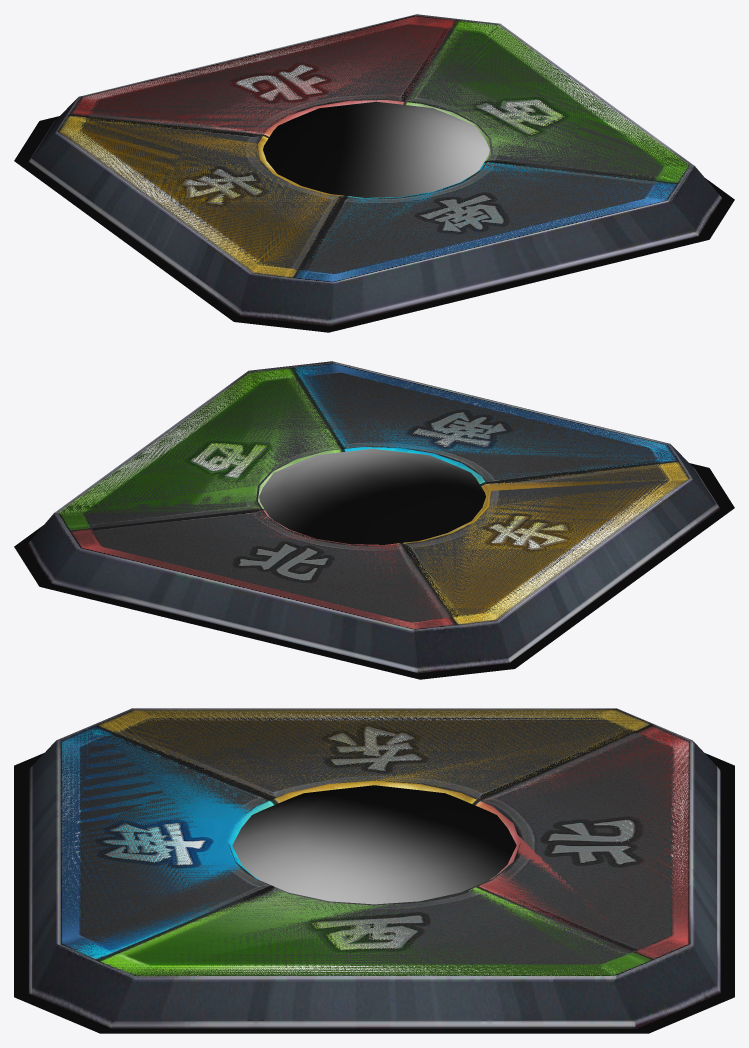
Rendered from DiceMachineModel.FBX.
3 renders of one model, top to bottom at view 1: azimuth 30°, elevation 25°; view 2: azimuth 150°, elevation 25°; view 3: azimuth 270°, elevation 25°, orthographic. The views are drawn at different scales.
Parts seen in each view (by area): view 1: QiDongQiSouth, QiDongQiEast, QiDongQiNorth, QiDongQiWest, QiDongQiNorthLight, QiDongQiWestLight, QiDongQiEastLight, QiDongQiGanZi, QiDongQiSouthLight, QiDongQiShadow; view 2: QiDongQiNorth, QiDongQiEast, QiDongQiSouth, QiDongQiWest, QiDongQiWestLight, QiDongQiEastLight, QiDongQiGanZi, QiDongQiNorthLight, QiDongQiSouthLight, QiDongQiShadow; view 3: QiDongQiWestLight, QiDongQiNorth, QiDongQiEast, QiDongQiSouth, QiDongQiWest, QiDongQiSouthLight, QiDongQiGanZi, QiDongQiEastLight, QiDongQiNorthLight, QiDongQiShadow.
Boxes of the visible parts, bbox=[...] form: QiDongQiSouth: bbox=[285, 162, 695, 326]; QiDongQiEast: bbox=[28, 114, 344, 320]; QiDongQiNorth: bbox=[42, 14, 456, 140]; QiDongQiWest: bbox=[404, 19, 692, 183]; QiDongQiNorthLight: bbox=[70, 14, 458, 137]; QiDongQiWestLight: bbox=[405, 19, 722, 216]; QiDongQiEastLight: bbox=[59, 114, 345, 277]; QiDongQiGanZi: bbox=[263, 101, 489, 197]; QiDongQiSouthLight: bbox=[296, 161, 709, 325]; QiDongQiShadow: bbox=[14, 116, 734, 332]; QiDongQiNorth: bbox=[53, 509, 463, 673]; QiDongQiEast: bbox=[404, 461, 720, 667]; QiDongQiSouth: bbox=[292, 361, 706, 487]; QiDongQiWest: bbox=[57, 366, 344, 530]; QiDongQiWestLight: bbox=[26, 366, 343, 563]; QiDongQiEastLight: bbox=[403, 461, 688, 625]; QiDongQiGanZi: bbox=[259, 448, 485, 544]; QiDongQiNorthLight: bbox=[39, 509, 454, 672]; QiDongQiSouthLight: bbox=[290, 361, 678, 484]; QiDongQiShadow: bbox=[14, 463, 734, 679]; QiDongQiWestLight: bbox=[70, 887, 678, 1028]; QiDongQiNorth: bbox=[477, 724, 720, 973]; QiDongQiEast: bbox=[95, 708, 653, 799]; QiDongQiSouth: bbox=[28, 724, 271, 977]; QiDongQiWest: bbox=[97, 886, 653, 977]; QiDongQiSouthLight: bbox=[28, 725, 275, 1010]; QiDongQiGanZi: bbox=[232, 785, 516, 904]; QiDongQiEastLight: bbox=[95, 709, 653, 804]; QiDongQiNorthLight: bbox=[473, 726, 720, 1010]; QiDongQiShadow: bbox=[14, 753, 734, 1033].
Size of the model in its own units: 15.02 by 2.96 by 15.02.
Materials: 4 (4 with a texture image).
